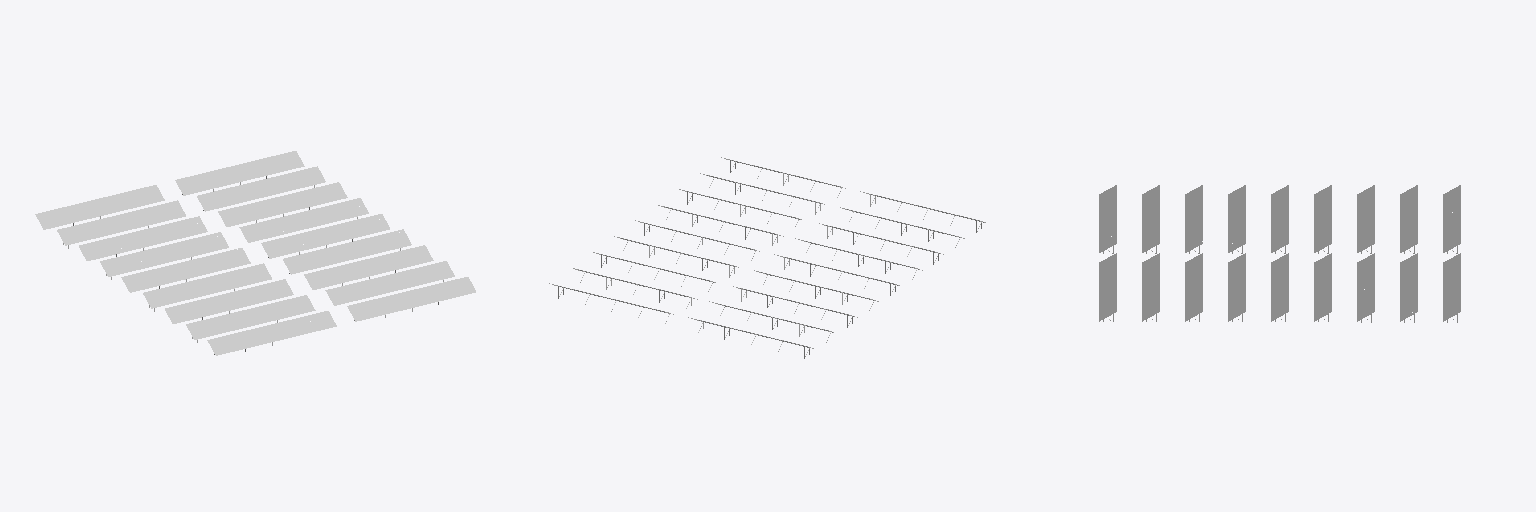
File: paneles.obj
3 views of the same model, side by side, from view 1: azimuth 30°, elevation 25°; view 2: azimuth 150°, elevation 25°; view 3: azimuth 270°, elevation 25° (orthographic).
Visible parts, largest first — view 1: Mesh36 Model, Mesh14 Model, Mesh2 Model, Mesh27 Model, Mesh35 Model, Mesh6 Model, Mesh26 Model, Mesh8 Model, Mesh16 Model, Mesh18 Model, Mesh21 Model, Mesh22 Model (+6 smaller); view 2: none; view 3: Mesh6 Model, Mesh8 Model, Mesh9 Model, Mesh11 Model, Mesh18 Model, Mesh25 Model, Mesh2 Model, Mesh4 Model, Mesh14 Model, Mesh16 Model, Mesh22 Model, Mesh26 Model (+6 smaller).
Part boxes in pixels (left/top/right/bottom): Mesh36 Model: left=35, top=185, right=164, bottom=229; Mesh14 Model: left=218, top=182, right=347, bottom=226; Mesh2 Model: left=347, top=277, right=475, bottom=321; Mesh27 Model: left=165, top=279, right=293, bottom=323; Mesh35 Model: left=57, top=200, right=185, bottom=245; Mesh6 Model: left=304, top=245, right=433, bottom=289; Mesh26 Model: left=121, top=248, right=250, bottom=292; Mesh8 Model: left=283, top=229, right=411, bottom=274; Mesh16 Model: left=197, top=166, right=325, bottom=211; Mesh18 Model: left=175, top=151, right=304, bottom=195; Mesh21 Model: left=207, top=311, right=336, bottom=355; Mesh22 Model: left=186, top=295, right=315, bottom=339; Mesh6 Model: left=1185, top=253, right=1202, bottom=321; Mesh8 Model: left=1228, top=253, right=1245, bottom=321; Mesh9 Model: left=1271, top=253, right=1288, bottom=321; Mesh11 Model: left=1314, top=253, right=1331, bottom=321; Mesh18 Model: left=1443, top=253, right=1460, bottom=321; Mesh25 Model: left=1314, top=185, right=1331, bottom=252; Mesh2 Model: left=1099, top=253, right=1116, bottom=321; Mesh4 Model: left=1142, top=253, right=1159, bottom=321; Mesh14 Model: left=1357, top=253, right=1374, bottom=321; Mesh16 Model: left=1400, top=253, right=1417, bottom=321; Mesh22 Model: left=1142, top=185, right=1159, bottom=252; Mesh26 Model: left=1271, top=185, right=1288, bottom=252.
Size of the model in its own units: 49.53 by 2.73 by 59.39.